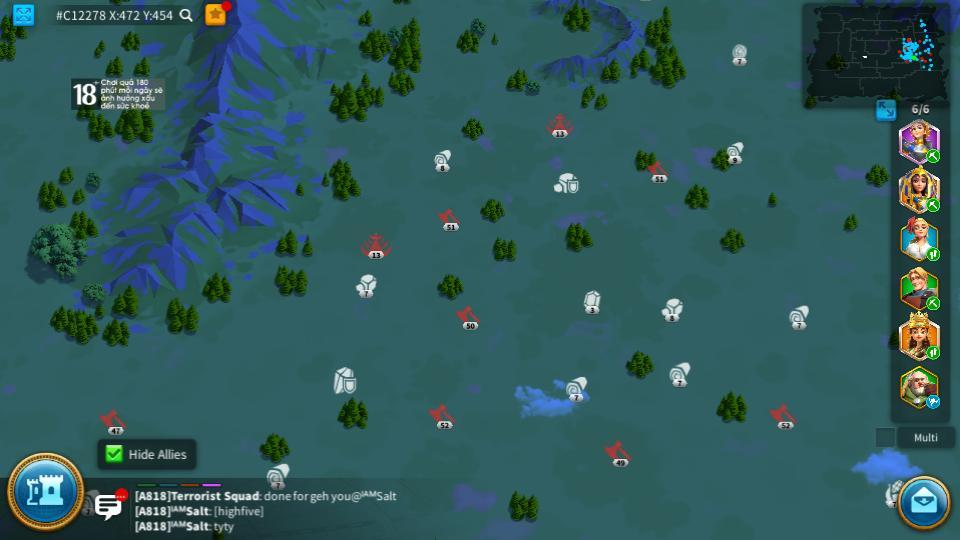gem-z-out: (583, 290, 602, 313), (729, 44, 748, 65)
march_idle: (925, 396, 942, 408)
march_marching: (925, 197, 941, 212), (925, 345, 941, 359), (925, 150, 941, 162), (925, 248, 941, 260), (925, 297, 942, 308)
